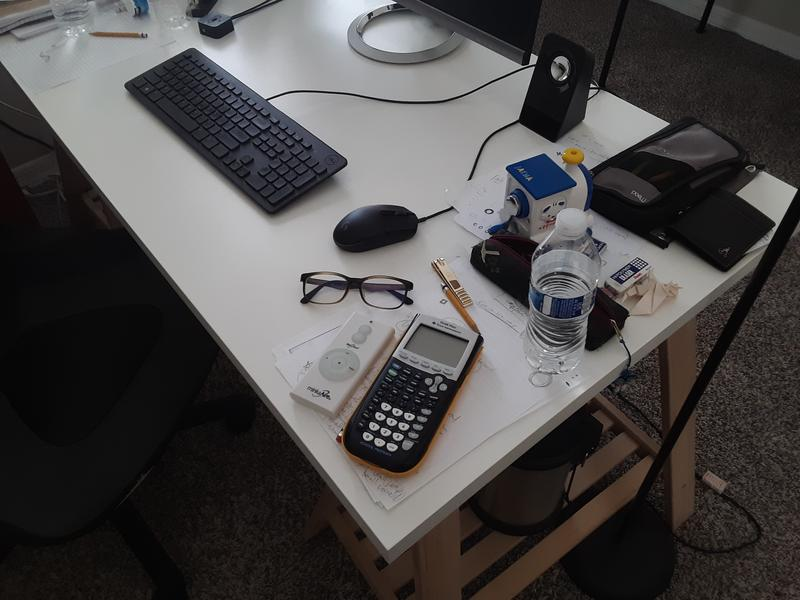glasses: (298, 270, 416, 312)
